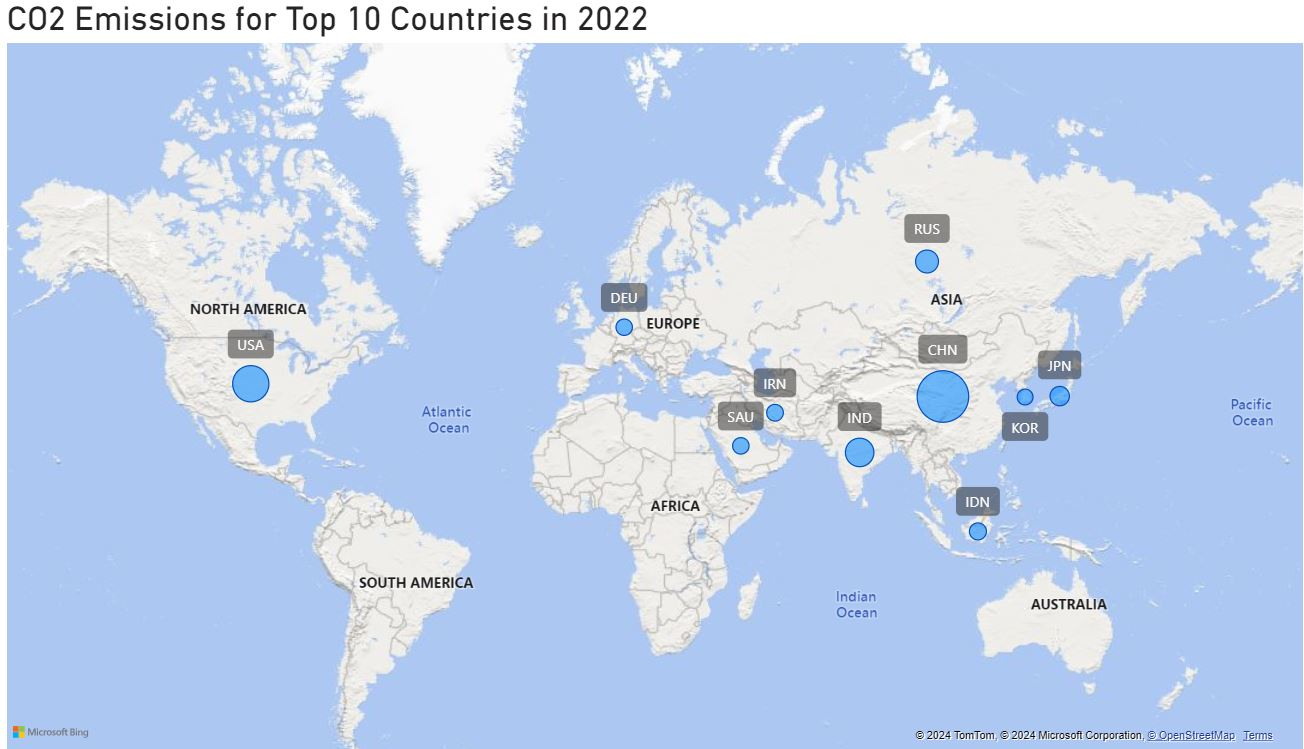

The dashboard page shown, as its layout file describes it:
{"tool":"powerbi","page":{"name":"Page 2","canvas":[1280,720],"ordinal":1},"visuals":[{"type":"map","title":"CO2 Emissions for Top 10 Countries in 2022","fields":{"Category":["co2_data_by_emission_type.iso_code"],"Size":["Sum(co2_data_by_emission_type.Value)"]},"box":[9.8,0,1089.8,630.4],"z":0}]}

Visuals, with their boxes in screenshot pixels (x1, y1, x2, y2), scaled from the page's 1280x720 canvas onto the 1304x749 screenshot:
"CO2 Emissions for Top 10 Countries in 2022" map: l=10, t=0, r=1120, b=656
